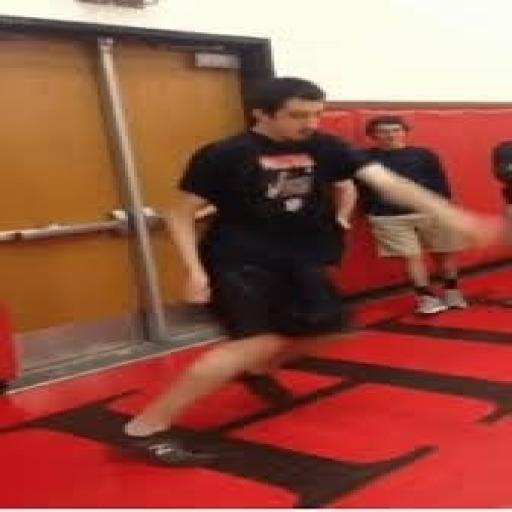dancing: (112, 75, 484, 466)
